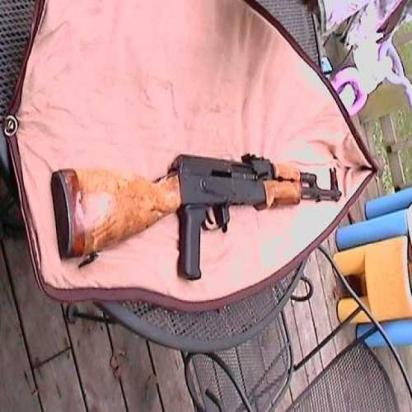Gun: (37, 140, 365, 289)
